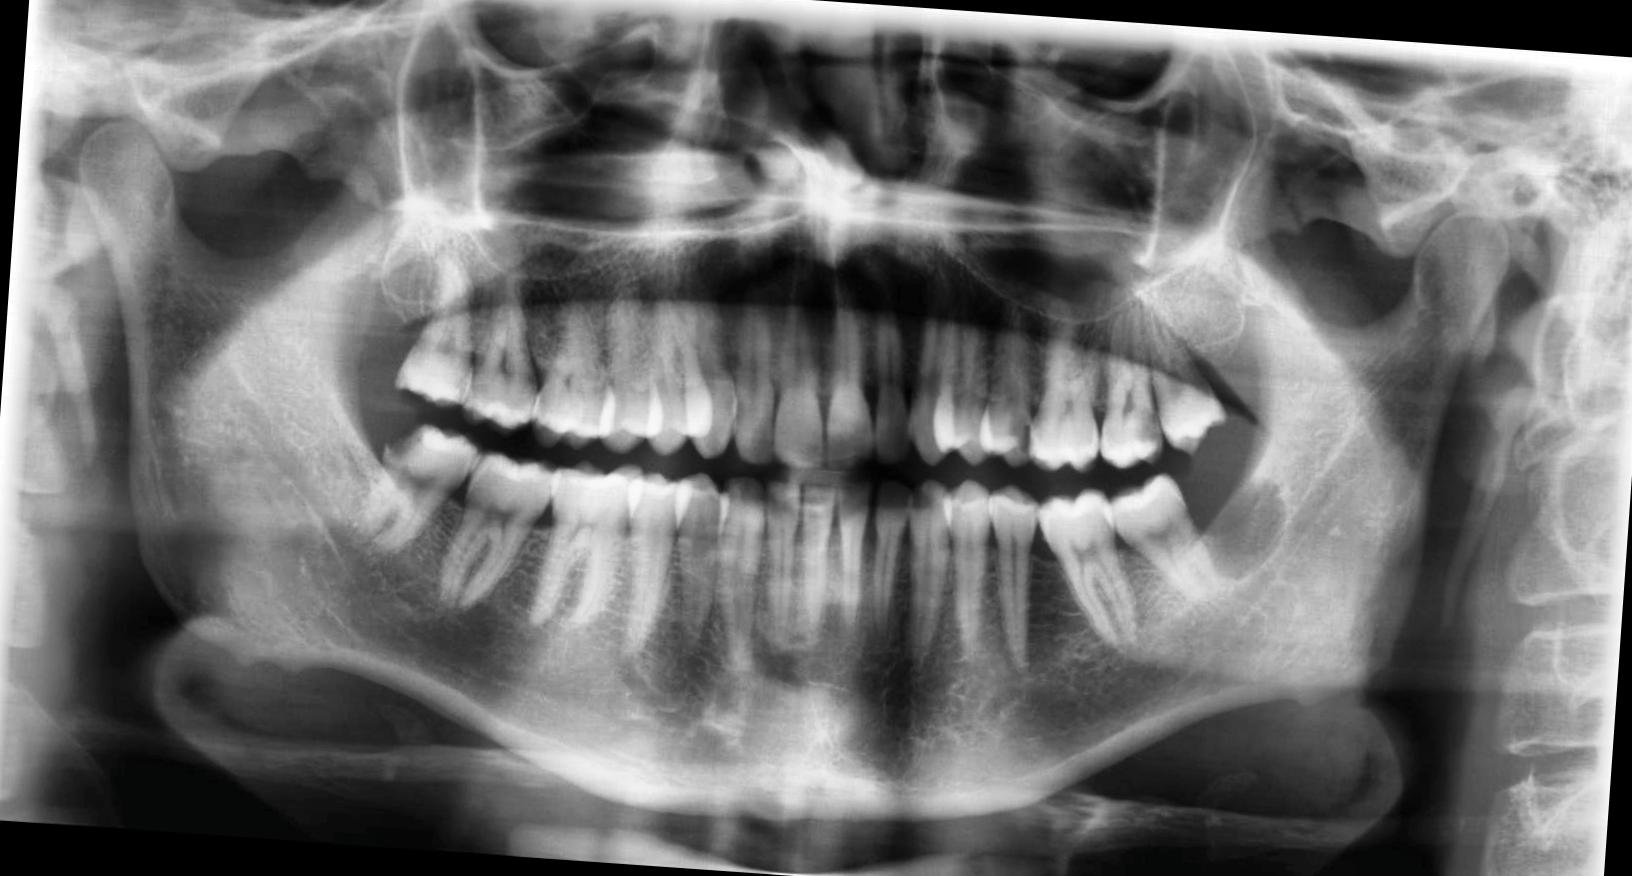okc: (1197, 469, 1292, 586)
